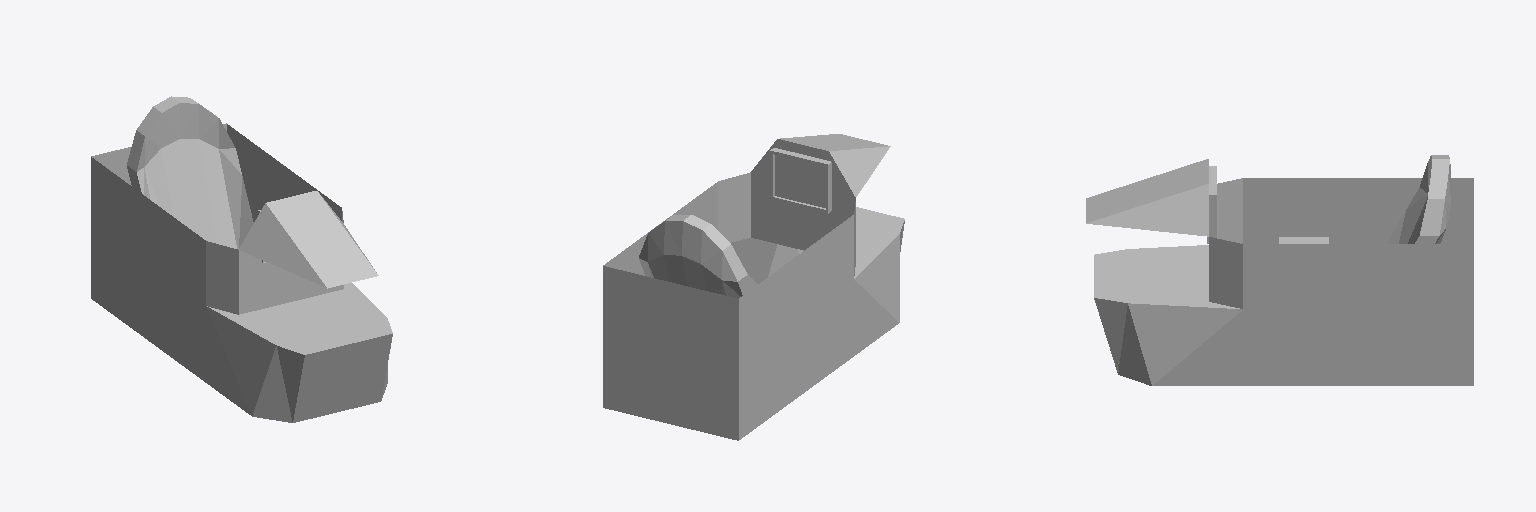
File: CockPit.obj
3 renders of one model, left to right at view 1: azimuth 30°, elevation 25°; view 2: azimuth 150°, elevation 25°; view 3: azimuth 270°, elevation 25°, orthographic.
Parts seen in each view (by area): view 1: Cockpit_Interior.001_Cube.006; view 2: Cockpit_Interior.001_Cube.006; view 3: Cockpit_Interior.001_Cube.006.
Part boxes in pixels (left/top/right/bottom): Cockpit_Interior.001_Cube.006: left=91, top=96, right=392, bottom=422; Cockpit_Interior.001_Cube.006: left=603, top=134, right=904, bottom=440; Cockpit_Interior.001_Cube.006: left=1086, top=155, right=1473, bottom=385.
Bounding box in the file's own units: 0.708 × 0.9702 × 1.76.